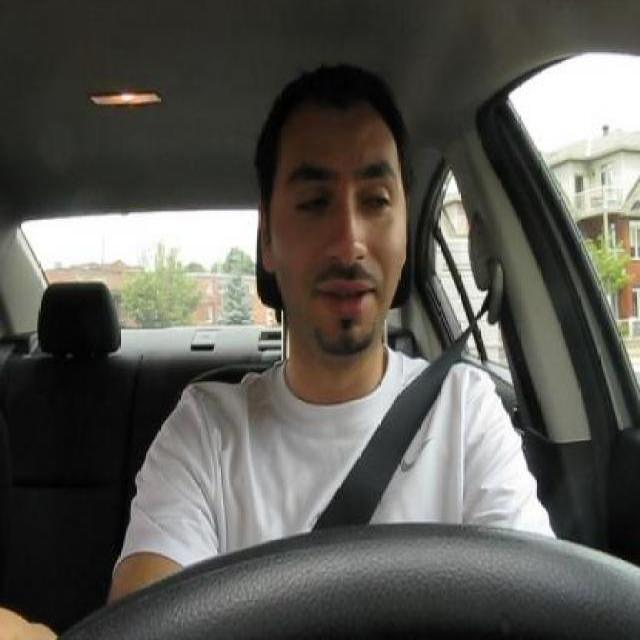seatbelt: (238, 250, 512, 544)
